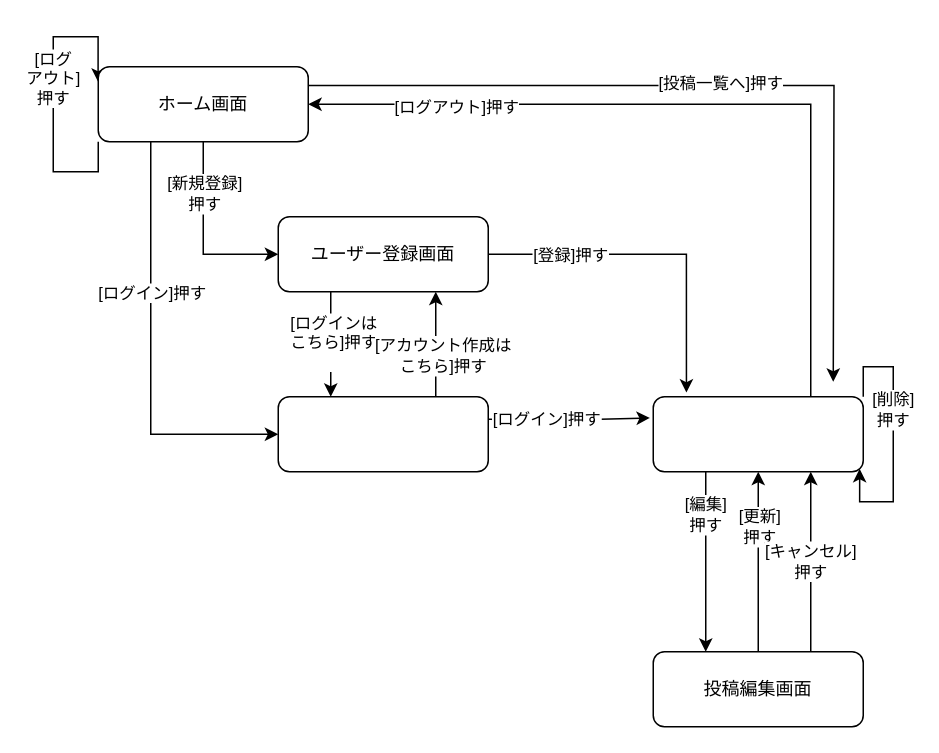
Some shapes in this 939 by 753 pixel diagram are drawn without their labels. Here are the shapes that lost their labels. From the top down, the centre of each, then its label:
(382,433): ログイン画面
(757,433): 投稿一覧画面
